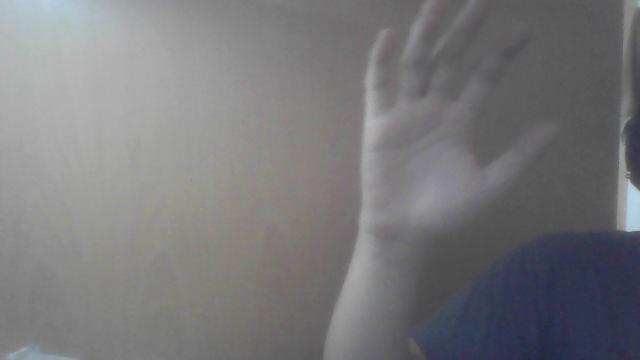Stop: (362, 5, 544, 231)
